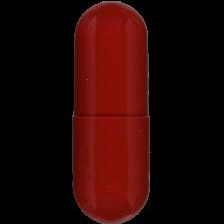61786-319: (0, 0, 224, 224)
